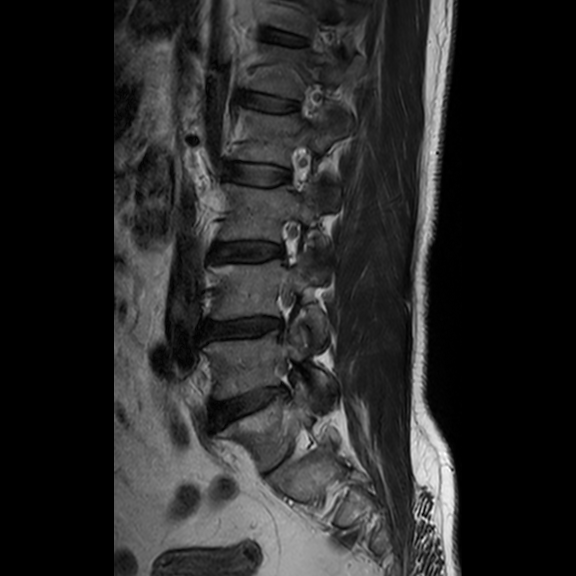RFS0: (268, 209, 309, 275), (278, 140, 318, 200)
